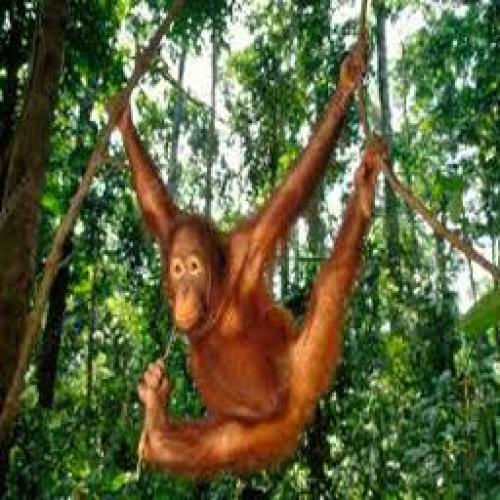orangutan-endangered: (102, 36, 386, 482)
